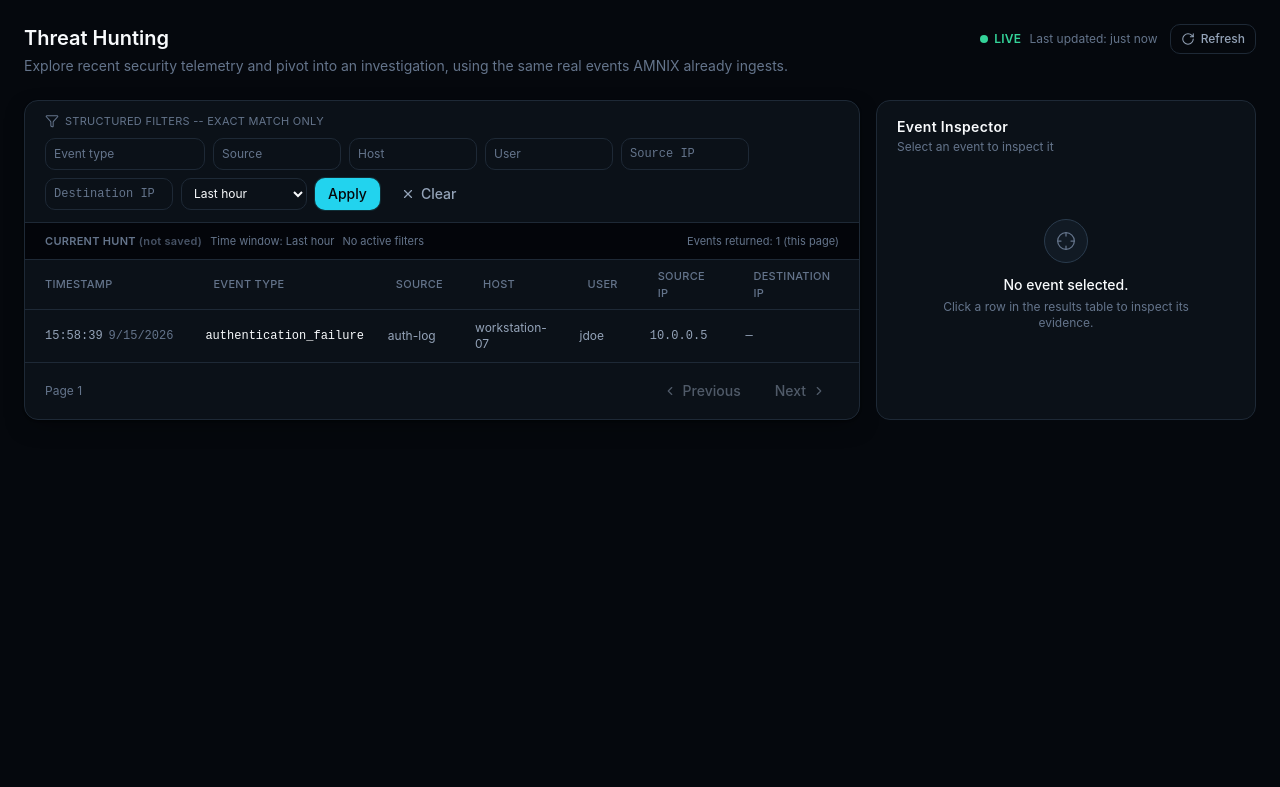
Test: ThreatHuntingPage: pivot behavior › only shows a pivot button for a field that is actually present on the selected event
Click the text "authentication_failure": x=285, y=336 top-left (193, 310), bottom-right (376, 362)
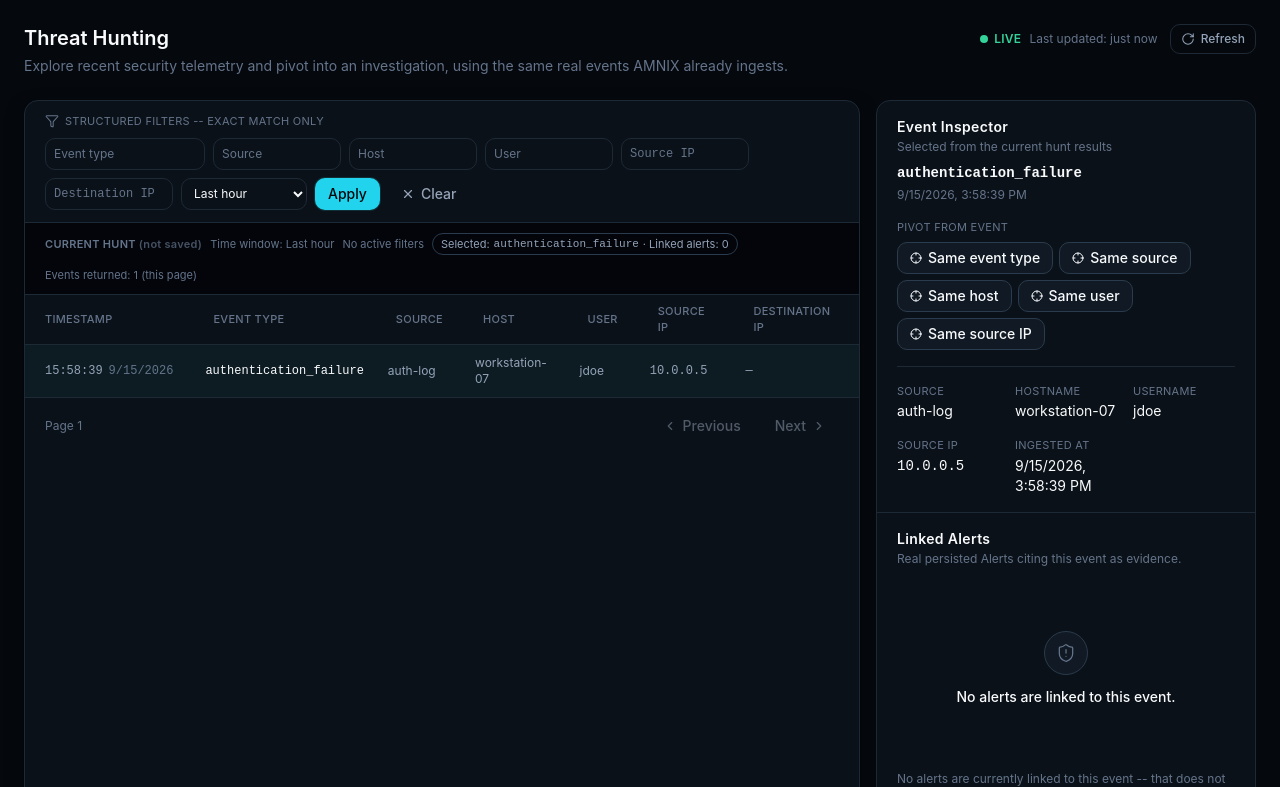
Check: the button "Same host" is shown, box top-left (897, 280), bottom-right (1012, 312)
